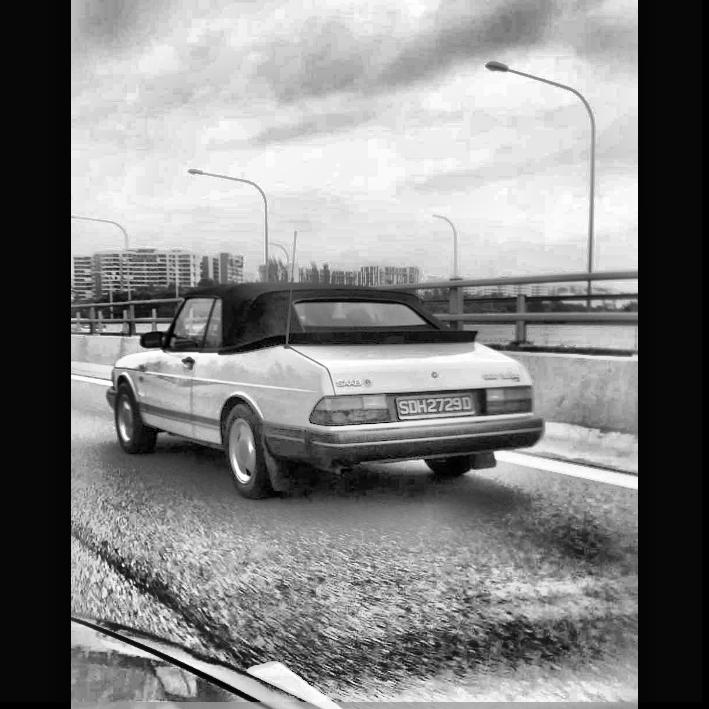License-Plates: (398, 395, 473, 416)
